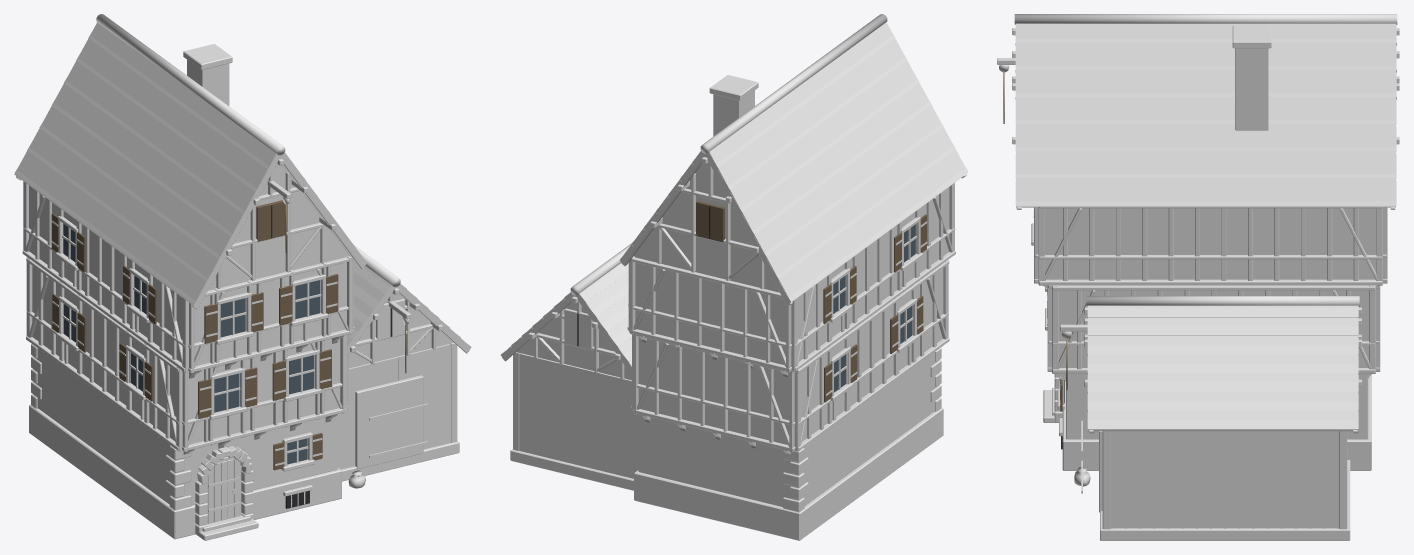
Rendered from ville_15_pignon_grange_bois.fbx.
The picture shows the model from 3 angles, left to right: view 1: azimuth 30°, elevation 25°; view 2: azimuth 150°, elevation 25°; view 3: azimuth 270°, elevation 25°; orthographic projection. The views are drawn at different scales.
Parts seen in each view (by area): view 1: ville_15_pignon_grange_bois_LOD0; view 2: ville_15_pignon_grange_bois_LOD0; view 3: ville_15_pignon_grange_bois_LOD0.
Part boxes in pixels (x1=…): ville_15_pignon_grange_bois_LOD0: x1=14, y1=14, x2=471, y2=540; ville_15_pignon_grange_bois_LOD0: x1=501, y1=14, x2=968, y2=540; ville_15_pignon_grange_bois_LOD0: x1=997, y1=14, x2=1399, y2=540.
Size of what is drawn, in the model's own units: 9.62 by 11.49 by 10.12.
